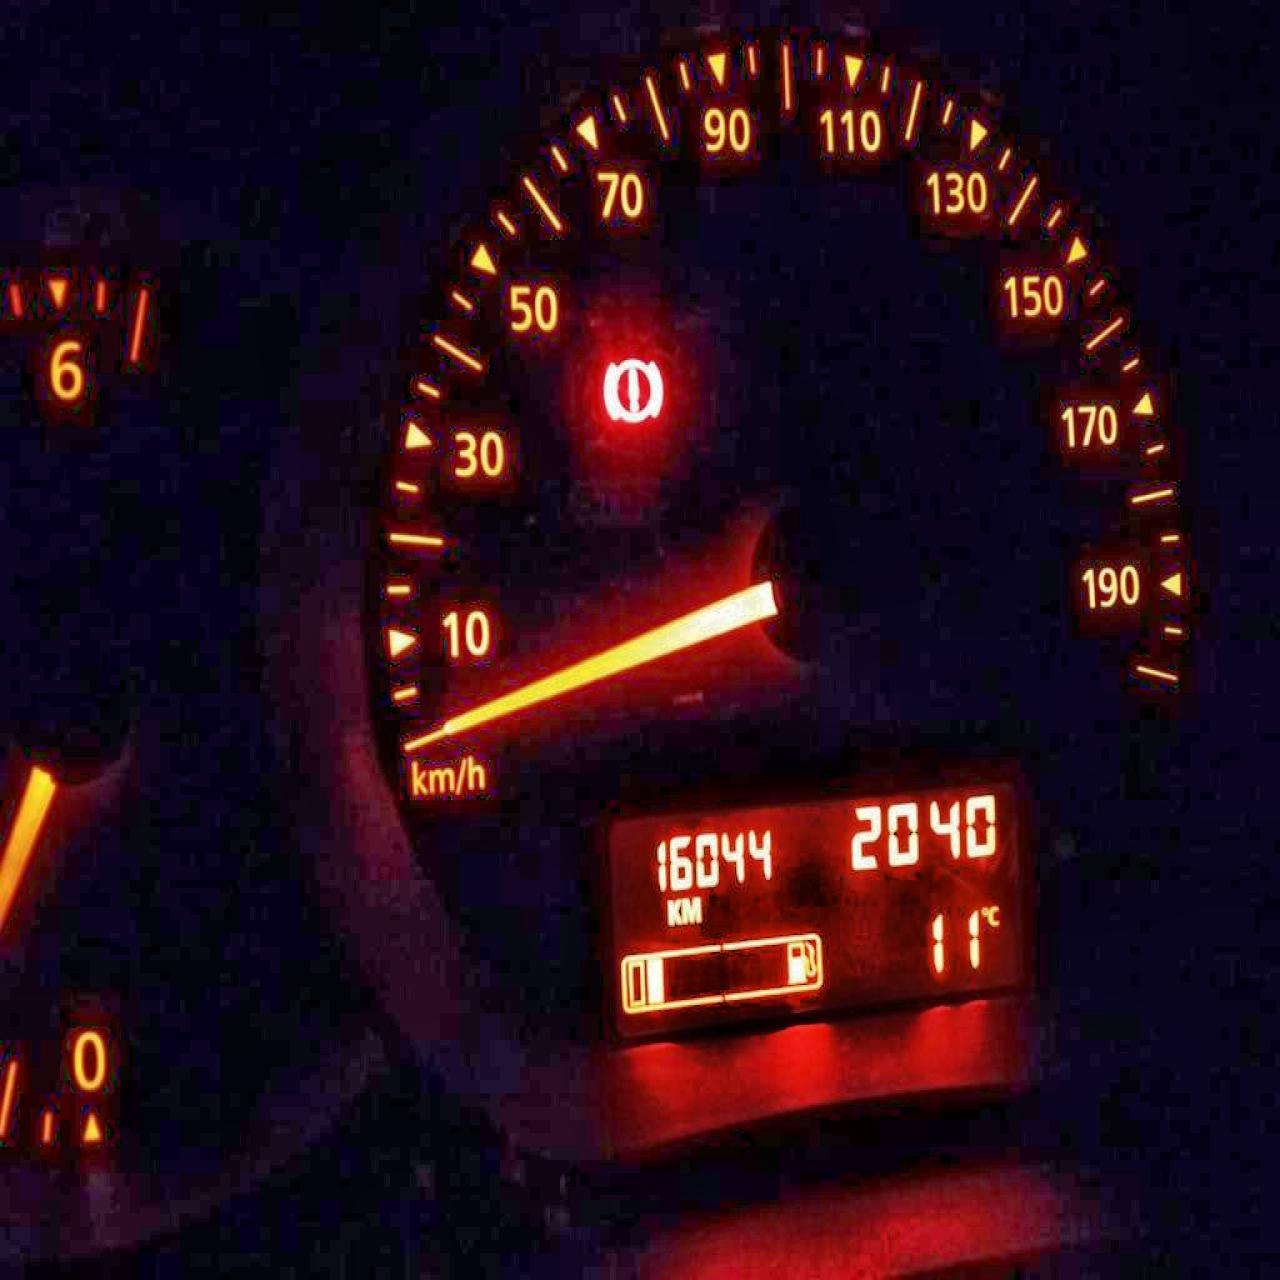0: (885, 801, 919, 866), (964, 791, 996, 858), (694, 832, 719, 888)
1: (930, 912, 942, 973), (966, 907, 979, 968), (655, 838, 666, 892)
2: (849, 803, 881, 870)
4: (927, 798, 960, 859), (747, 826, 772, 880), (719, 832, 743, 884)
6: (667, 833, 693, 890)
X: (680, 893, 702, 925), (665, 897, 680, 926), (986, 904, 1000, 927)
odometer: (606, 776, 1028, 1042)
